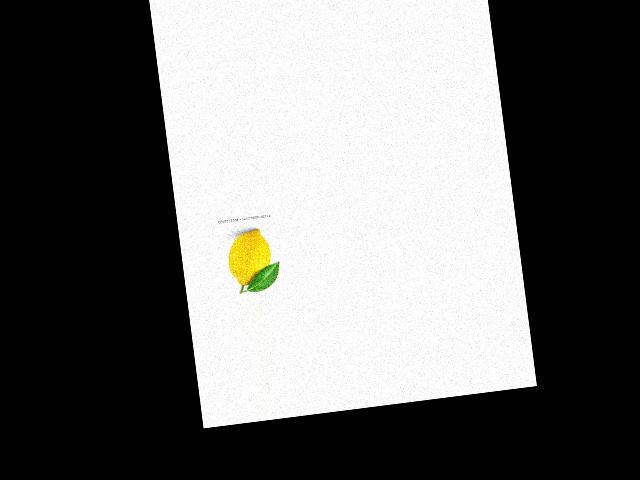lemon: (223, 226, 280, 290)
